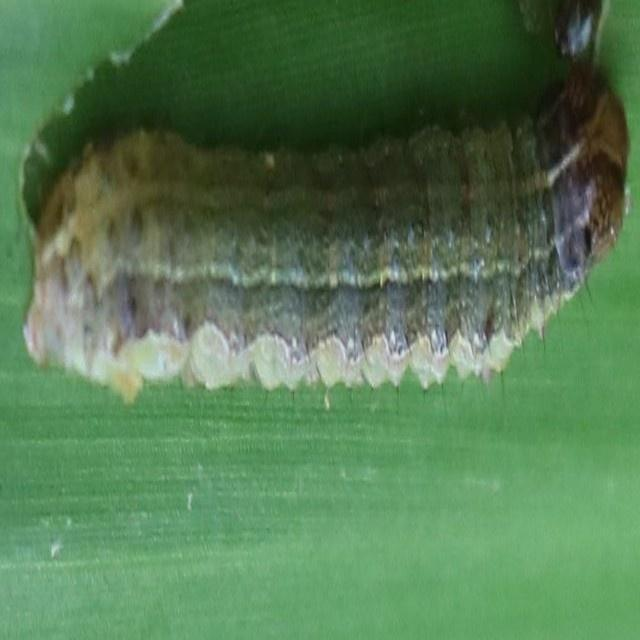gusano_cogollero: (25, 67, 630, 400)
